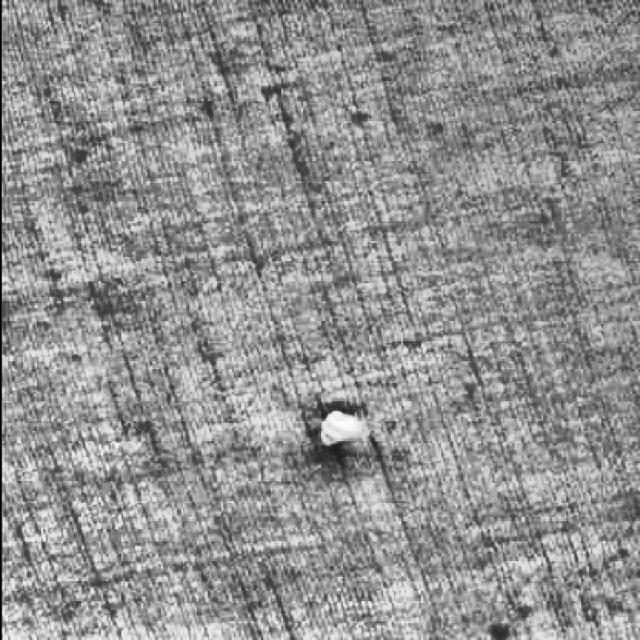hole: (310, 398, 372, 457)
